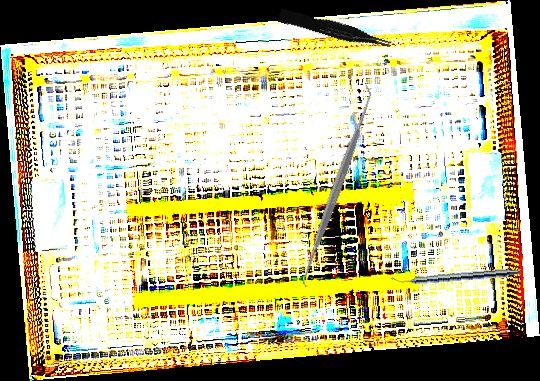Handpiece: (390, 265, 521, 288)
Spatula Surgical: (290, 83, 384, 290)
Tissue Forceps: (277, 4, 393, 57)
